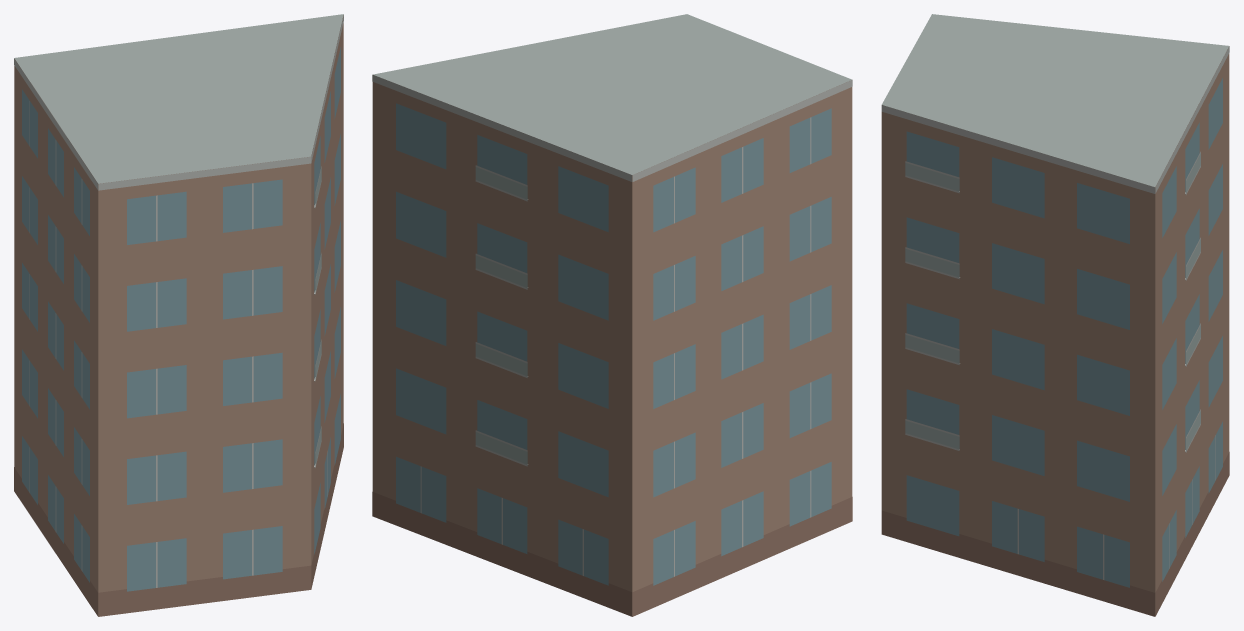
File: survey-upis-32918732.glb
The picture shows the model from 3 angles, left to right: view 1: azimuth 30°, elevation 25°; view 2: azimuth 150°, elevation 25°; view 3: azimuth 270°, elevation 25°; orthographic projection. The views are drawn at different scales.
Visible parts, largest first — view 1: survey-upis-32918732.tmp; view 2: survey-upis-32918732.tmp; view 3: survey-upis-32918732.tmp.
Boxes of the visible parts, x1,y1,x2,y2 form: survey-upis-32918732.tmp: [14, 14, 343, 616]; survey-upis-32918732.tmp: [372, 14, 852, 616]; survey-upis-32918732.tmp: [881, 14, 1229, 616].
Bounding box in the file's own units: 13.2 × 15.25 × 11.2.
